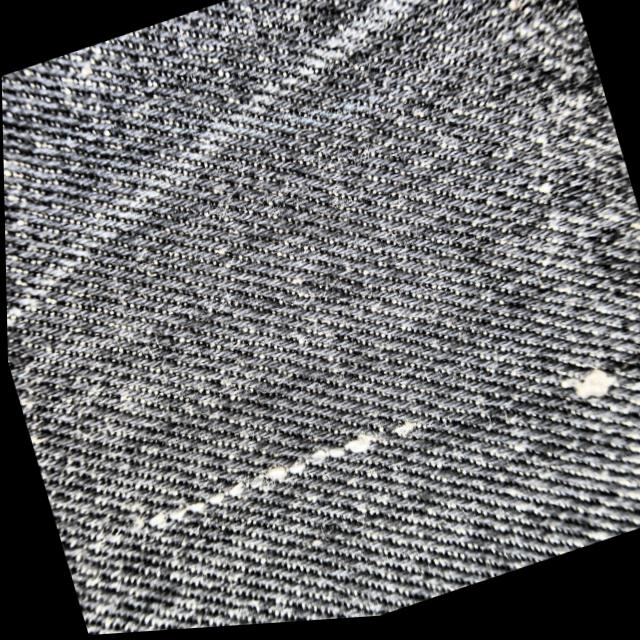Hole: (145, 423, 416, 531), (571, 372, 614, 408)
